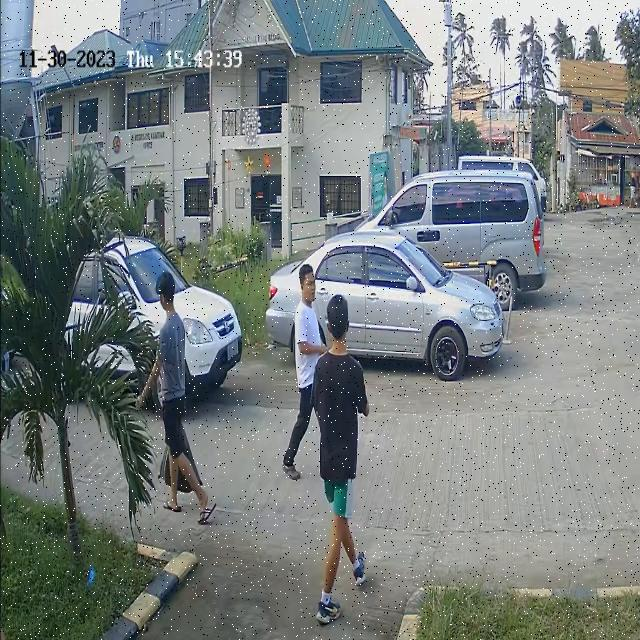human: (312, 294, 366, 628), (140, 270, 208, 525), (280, 266, 324, 480)
trash: (157, 410, 201, 501)
